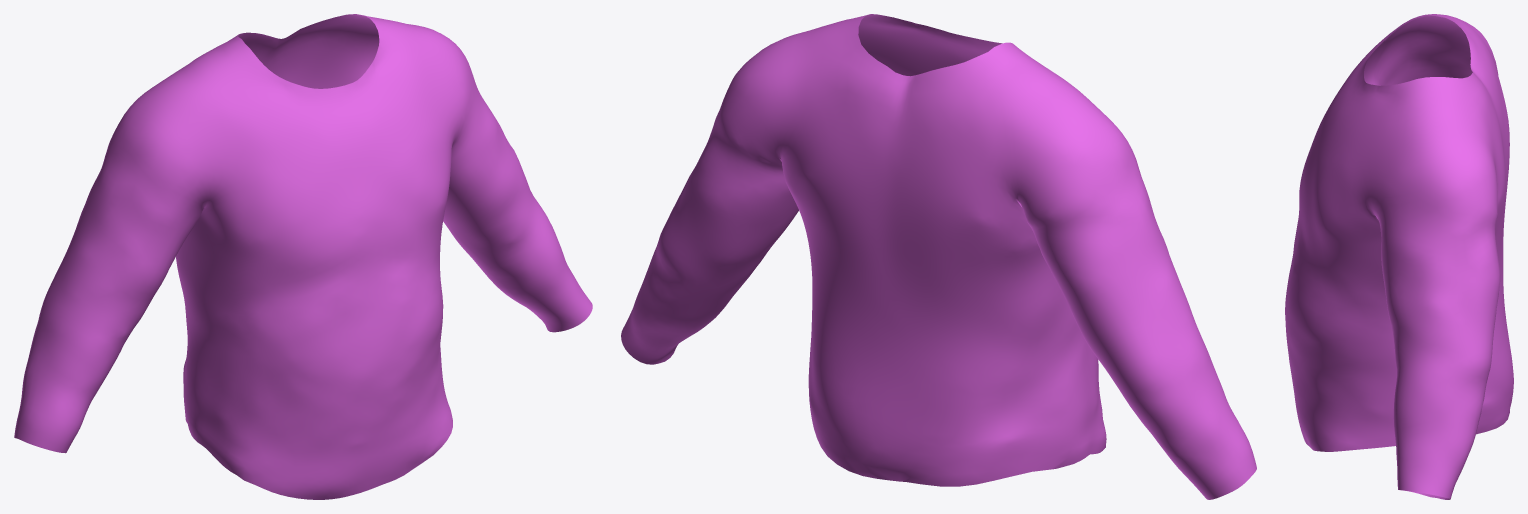
File: Male-XXX-Large-shirt.glb
The picture shows the model from 3 angles, left to right: view 1: azimuth 30°, elevation 25°; view 2: azimuth 150°, elevation 25°; view 3: azimuth 270°, elevation 25°; orthographic projection. The views are drawn at different scales.
Visible parts, largest first — view 1: Group1.007; view 2: Group1.007; view 3: Group1.007.
Boxes of the visible parts, x1,y1,x2,y2 form: Group1.007: (14,14,592,499); Group1.007: (621,14,1256,499); Group1.007: (1285,14,1513,499).
Bounding box in the file's own units: 1.86 × 1.29 × 0.6866.
